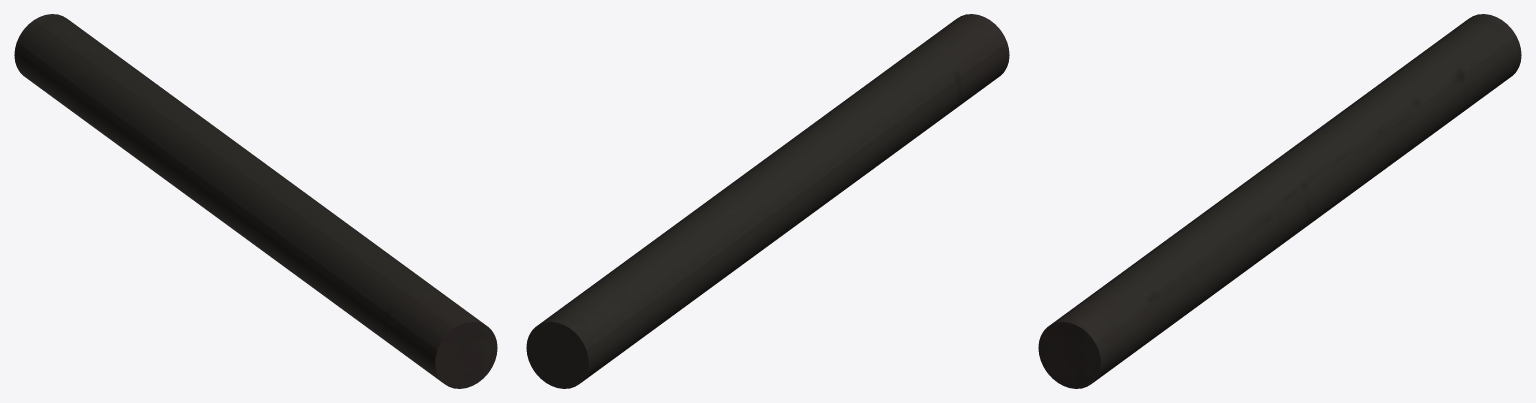
File: support_link__side_tube_1.glb
3 renders of one model, left to right at view 1: azimuth 30°, elevation 25°; view 2: azimuth 150°, elevation 25°; view 3: azimuth 330°, elevation 25°, orthographic.
Parts seen in each view (by area): view 1: world; view 2: world; view 3: world.
Part boxes in pixels (<box>): world: <box>14,14,497,388</box>; world: <box>526,14,1009,388</box>; world: <box>1038,14,1521,388</box>.
Bounding box in the file's own units: 0.024 × 0.024 × 0.28.
1 material, 1 textured.
